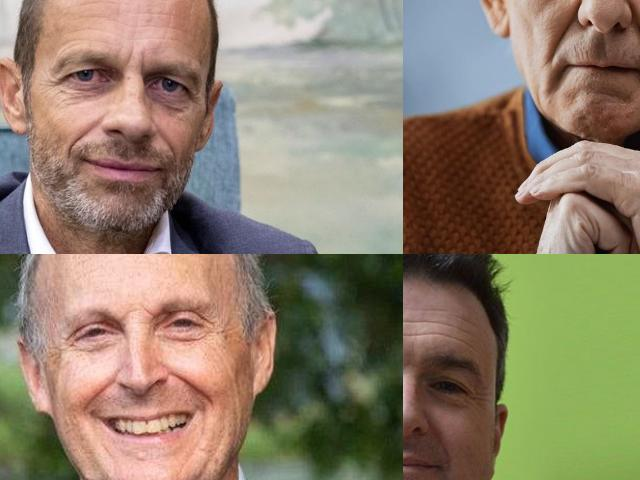crows_feet: (38, 68, 66, 102), (464, 385, 486, 411), (186, 86, 204, 108)
forehead: (140, 5, 178, 34), (417, 308, 447, 344), (451, 310, 475, 350), (76, 0, 118, 20), (403, 309, 411, 342)
frown_line: (122, 46, 148, 70), (139, 303, 153, 319)
gummy_smile: (75, 374, 118, 408), (172, 373, 215, 402), (64, 119, 92, 157), (548, 12, 572, 56), (154, 122, 180, 158)
